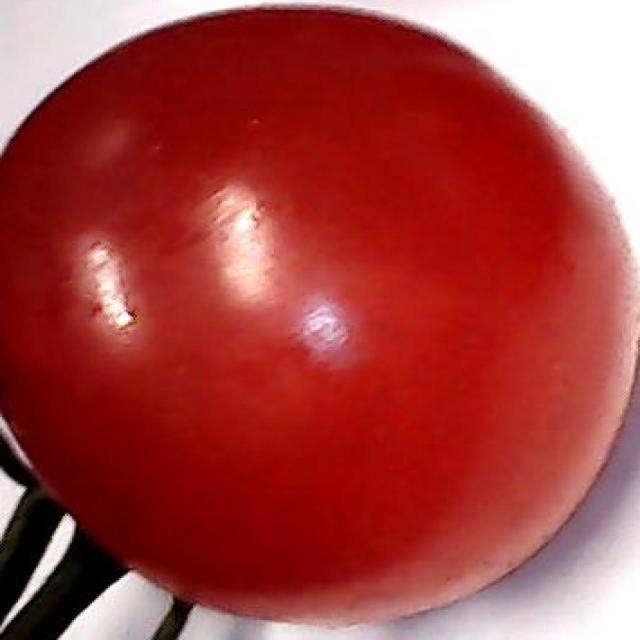Healthy Fruit: (2, 0, 425, 418)
